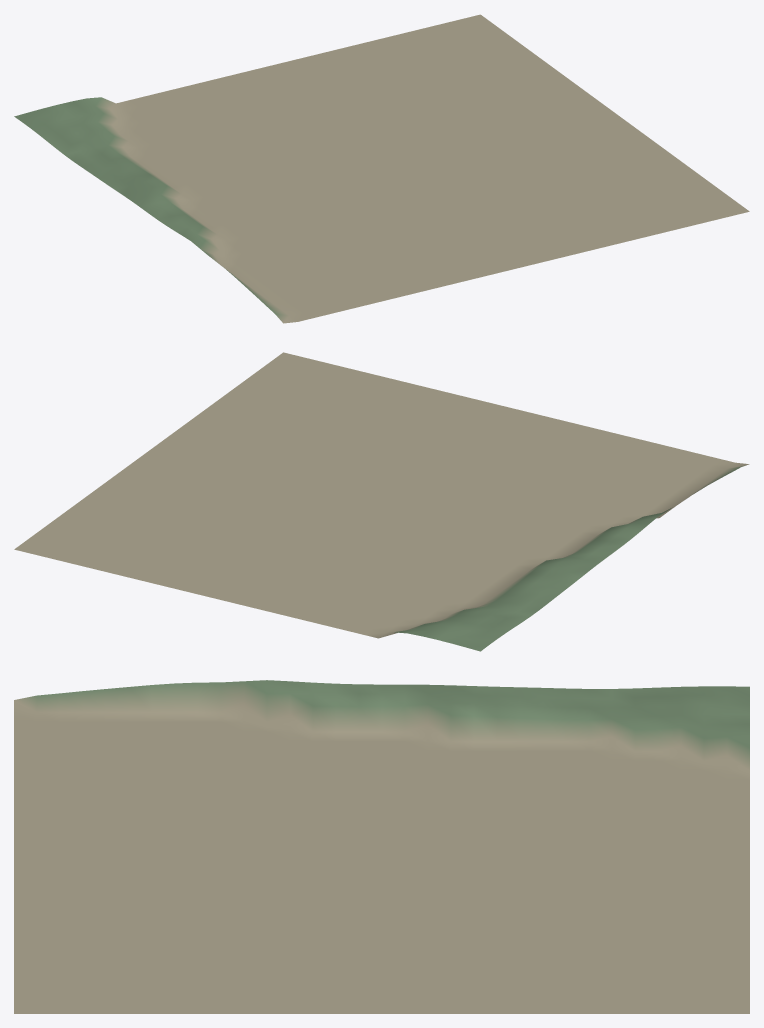
The picture shows the model from 3 angles, top to bottom: view 1: azimuth 30°, elevation 25°; view 2: azimuth 150°, elevation 25°; view 3: azimuth 270°, elevation 25°; orthographic projection. The views are drawn at different scales.
Visible parts, largest first — view 1: Terrain-col; view 2: Terrain-col; view 3: Terrain-col.
Part boxes in pixels (x1,y1,x2,y2): Terrain-col: [14, 14, 749, 323]; Terrain-col: [14, 352, 749, 651]; Terrain-col: [14, 680, 749, 1013].
Bounding box in the file's own units: 256 × 8.71 × 256.
